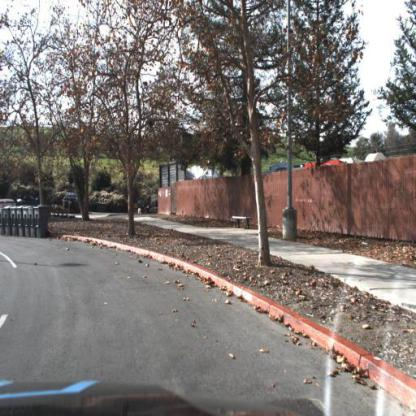car: (60, 189, 82, 219), (63, 190, 82, 216)
